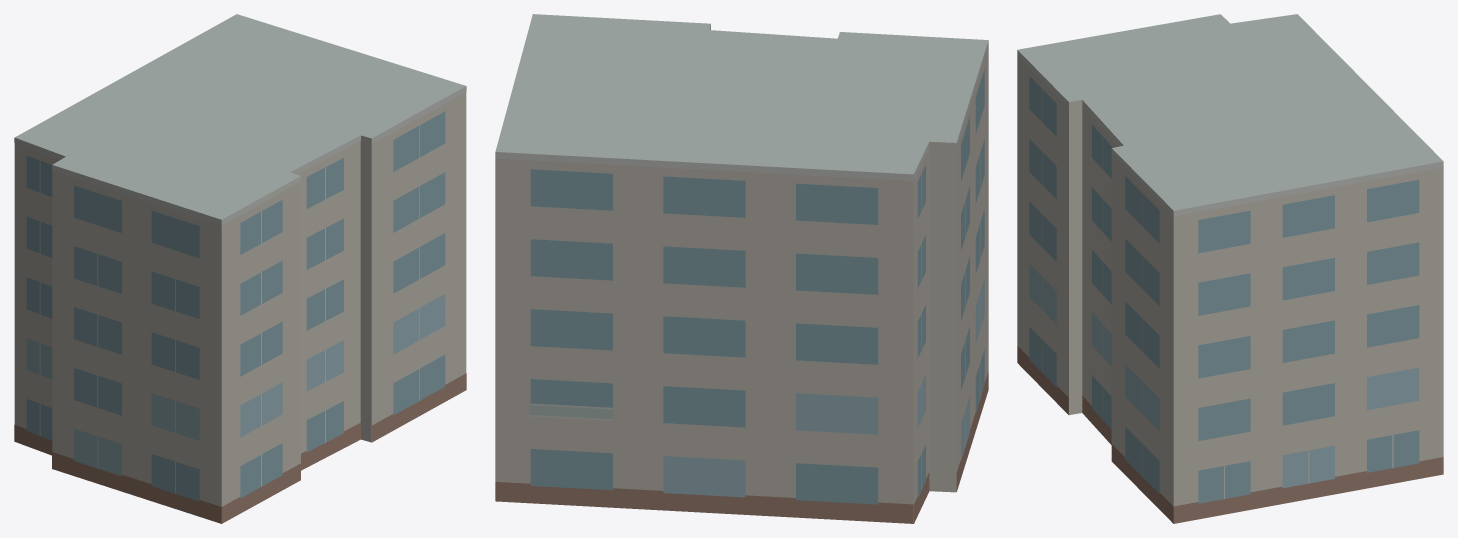
The model's file is survey-upis-32849657.glb.
3 renders of one model, left to right at view 1: azimuth 30°, elevation 25°; view 2: azimuth 150°, elevation 25°; view 3: azimuth 270°, elevation 25°, orthographic. The views are drawn at different scales.
Visible parts, largest first — view 1: survey-upis-32849657.tmp; view 2: survey-upis-32849657.tmp; view 3: survey-upis-32849657.tmp.
Boxes of the visible parts, box(x1,y1,x2,y2) form: survey-upis-32849657.tmp: box(14, 14, 466, 523); survey-upis-32849657.tmp: box(495, 14, 988, 523); survey-upis-32849657.tmp: box(1017, 14, 1443, 523).
Size of the model in its own units: 17.67 by 13.1 by 16.17.
